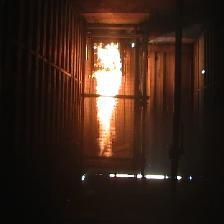fire: (89, 41, 124, 157)
